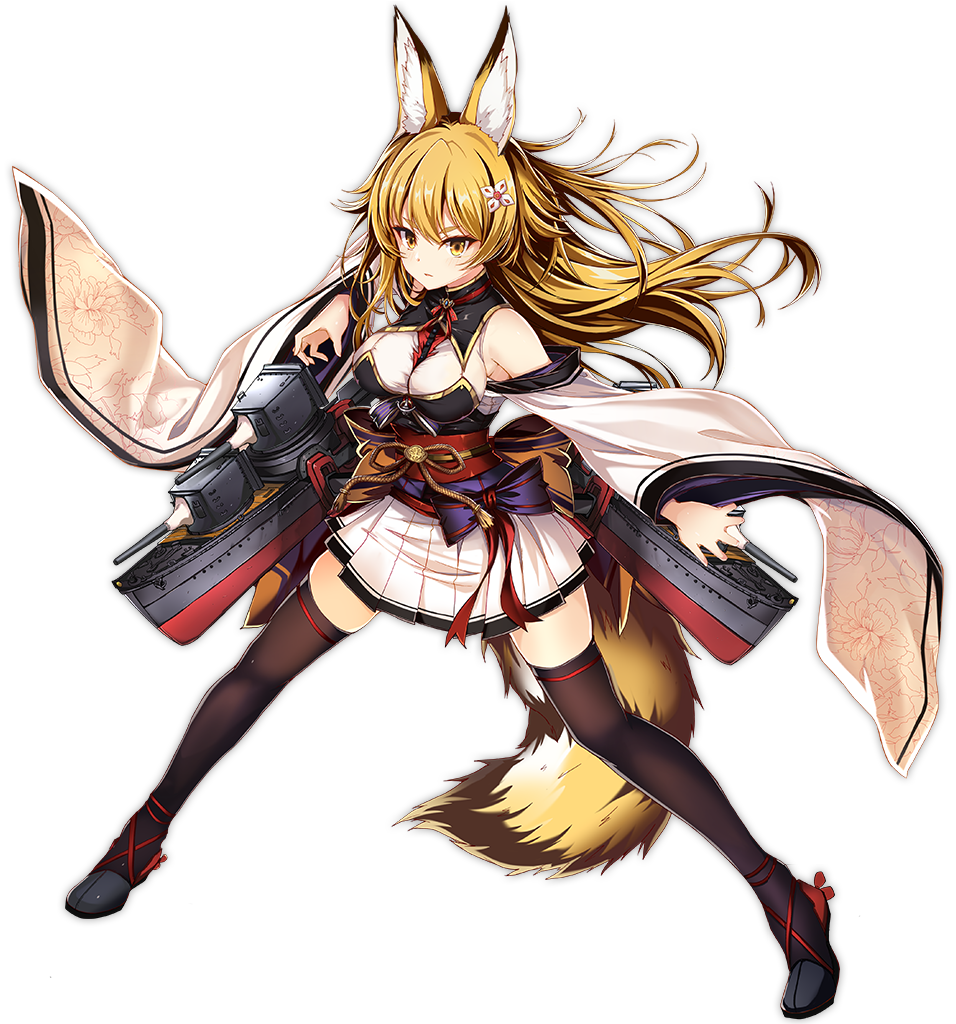person: (256, 126, 642, 826)
